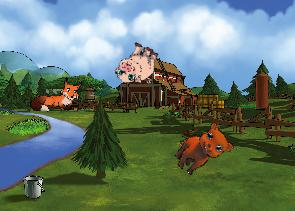bear: (169, 116, 238, 186)
fox: (30, 77, 82, 112)
pig: (111, 37, 163, 91)
